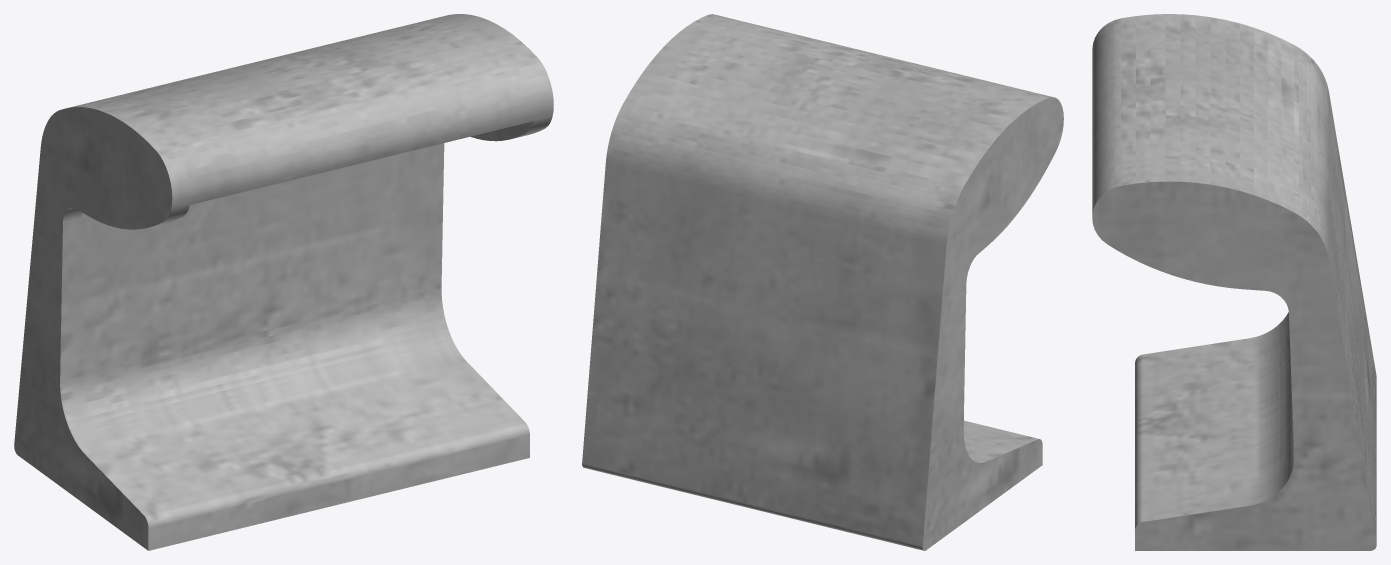
Rendered from borne-beton.glb.
3 renders of one model, left to right at view 1: azimuth 30°, elevation 25°; view 2: azimuth 150°, elevation 25°; view 3: azimuth 270°, elevation 25°, orthographic. The views are drawn at different scales.
Parts seen in each view (by area): view 1: 34524; view 2: 34524; view 3: 34524.
Part boxes in pixels (bbox=[...]): 34524: bbox=[14, 14, 553, 550]; 34524: bbox=[582, 14, 1063, 550]; 34524: bbox=[1092, 14, 1376, 550].
Bounding box in the file's own units: 0.3 × 0.3086 × 0.2154.
184 materials, 160 textured.
